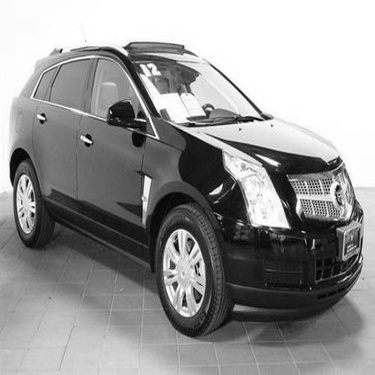car: (7, 25, 366, 340)
